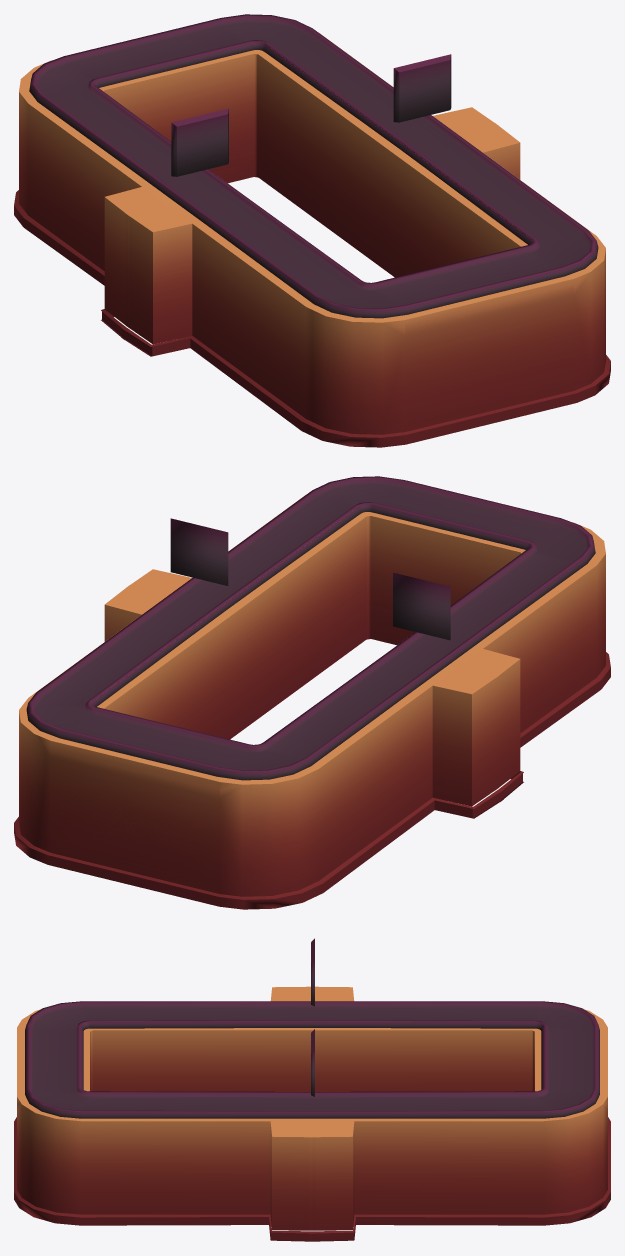
Rendered from ZHUOZI.fbx.
3 renders of one model, top to bottom at view 1: azimuth 30°, elevation 25°; view 2: azimuth 150°, elevation 25°; view 3: azimuth 270°, elevation 25°, orthographic. The views are drawn at different scales.
Parts seen in each view (by area): view 1: 67.004, 57.006, 57.008; view 2: 67.004, 57.006, 57.008; view 3: 67.004.
Boxes of the visible parts, x1,y1,x2,y2 form: 67.004: (14, 14, 610, 447); 57.006: (393, 54, 451, 122); 57.008: (171, 108, 228, 176); 67.004: (14, 476, 610, 909); 57.006: (170, 518, 228, 585); 57.008: (393, 572, 450, 640); 67.004: (14, 986, 610, 1241).
Size of the model in its own units: 715 by 366 by 1169.
